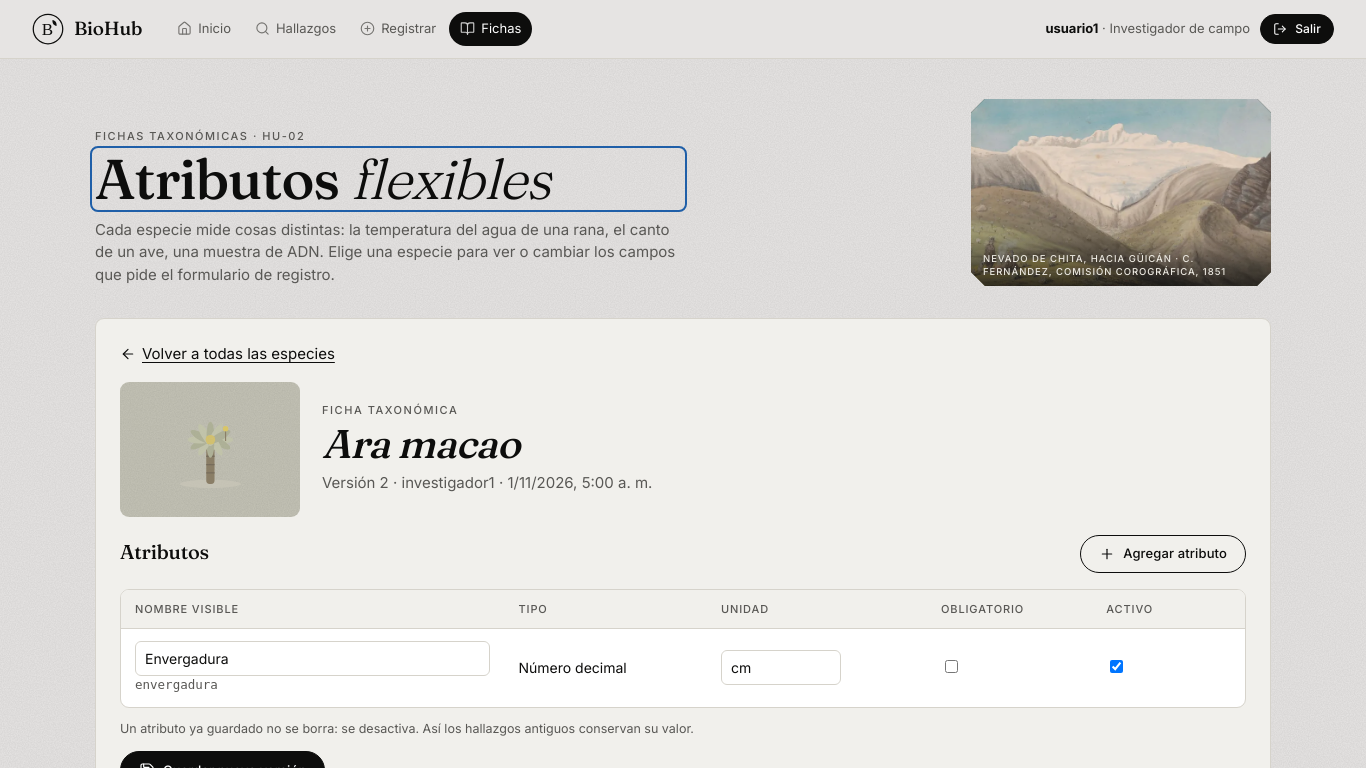
Scenario: Fichas taxonómicas (HU-02, RNF8) › agregar un atributo no le quita el foco al escribir y guarda una versión nueva
Step 1. Click the button "Agregar atributo" → click(1163, 554), box [1080,534,1246,572]
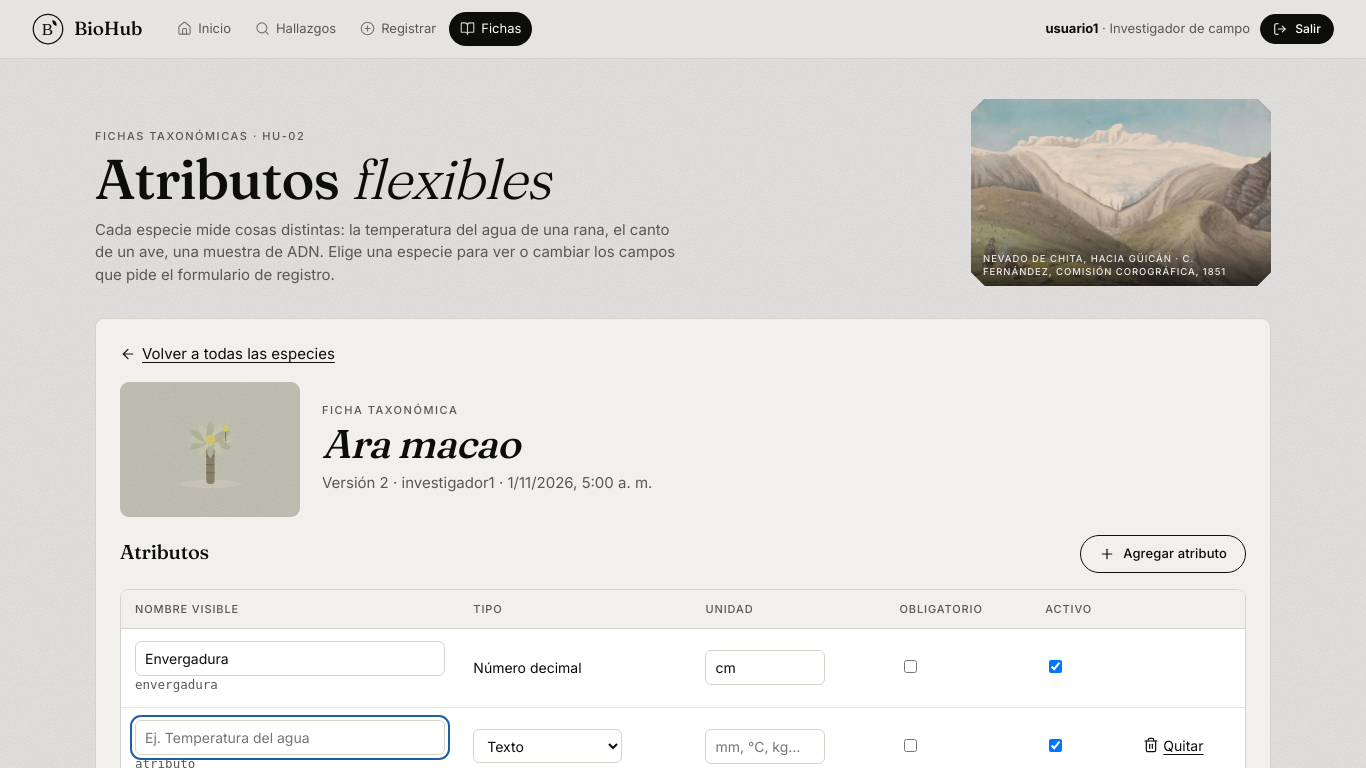
Step 2. Type "Color del pico" into the field named "Nombre del atributo 2" → (290, 737), box [135,720,445,754]
(page scrolled)
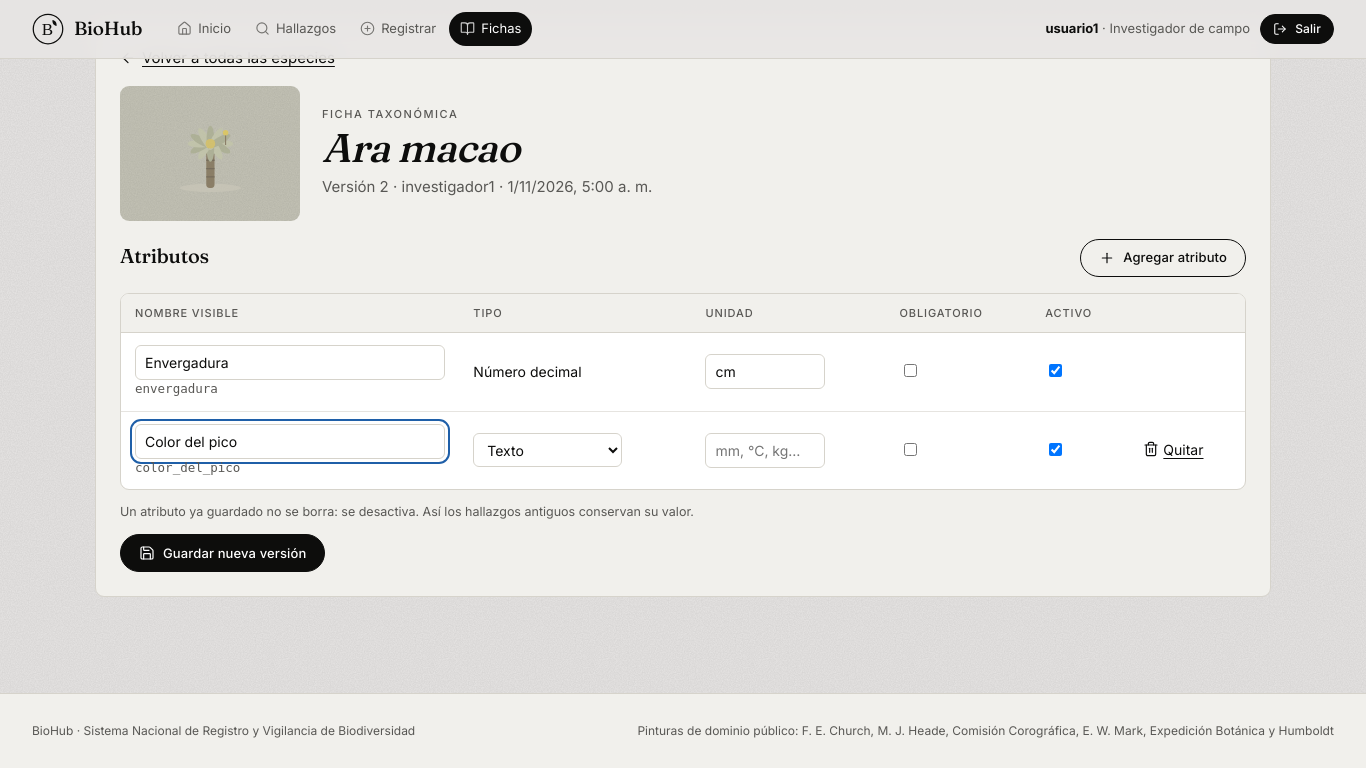
expect the text "color_del_pico" is shown: met, box [135,460,240,474]
Step 3. Click the button "Guardar nueva versión" → click(223, 553), box [120,534,326,572]
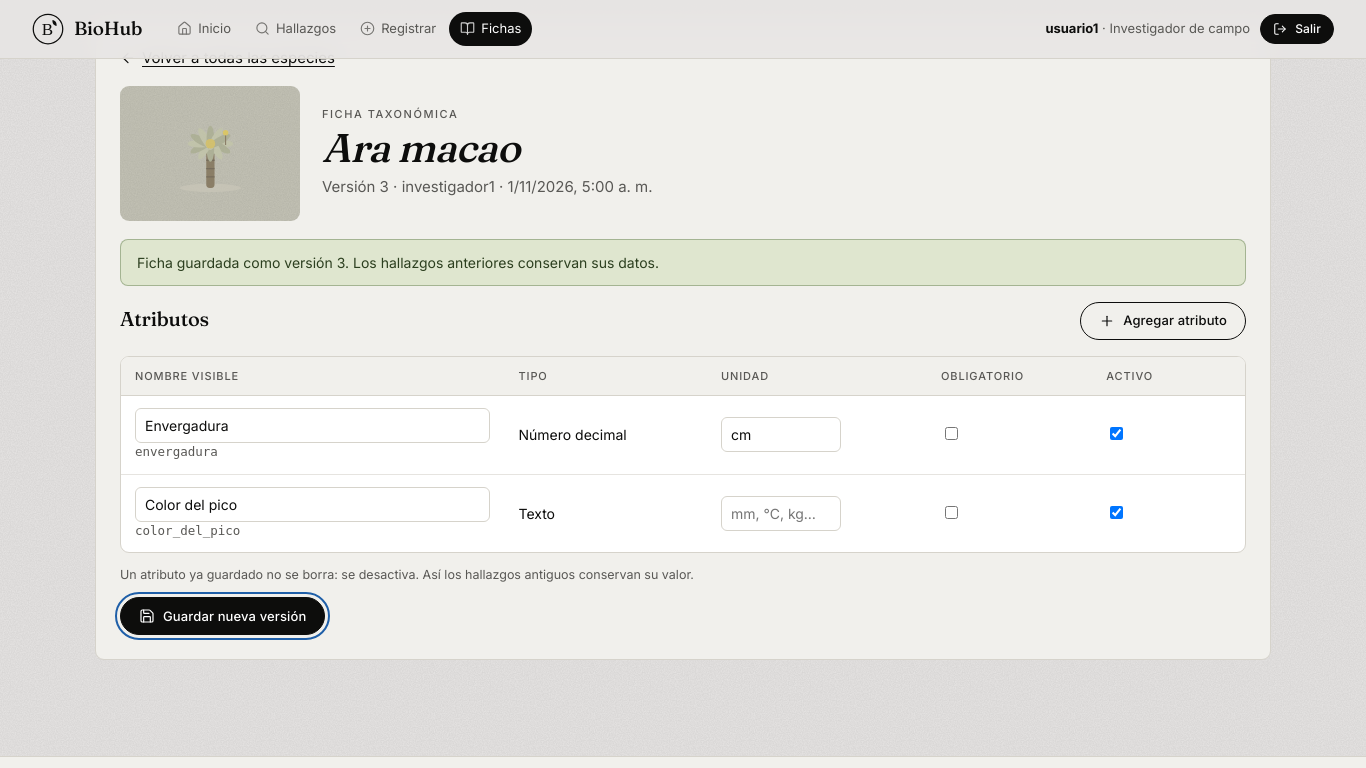
expect the text "Ficha guardada como versión 3" is shown: met, box [137,254,659,270]
